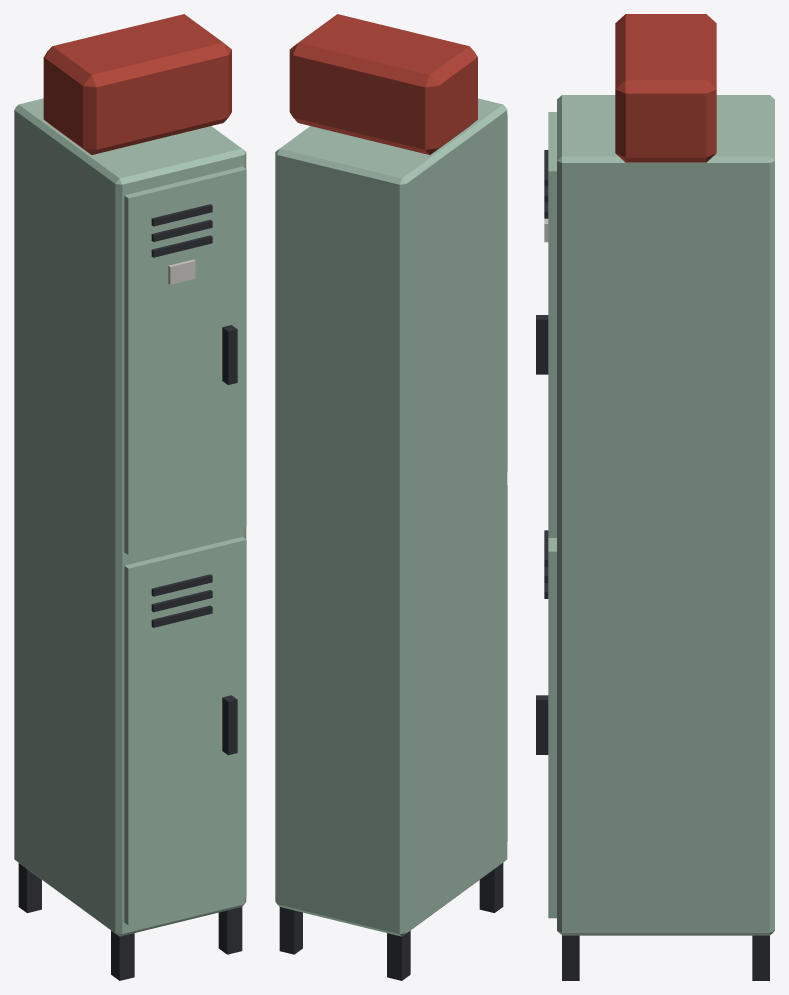
Rendered from locker-04.glb.
3 renders of one model, left to right at view 1: azimuth 30°, elevation 25°; view 2: azimuth 150°, elevation 25°; view 3: azimuth 270°, elevation 25°, orthographic. The views are drawn at different scales.
Visible parts, largest first — view 1: locker_04; view 2: locker_04; view 3: locker_04.
Part boxes in pixels (bbox=[...]): locker_04: bbox=[14, 14, 246, 980]; locker_04: bbox=[275, 14, 507, 980]; locker_04: bbox=[536, 14, 774, 980].
Bounding box in the file's own units: 0.3499 × 1.98 × 0.473.
